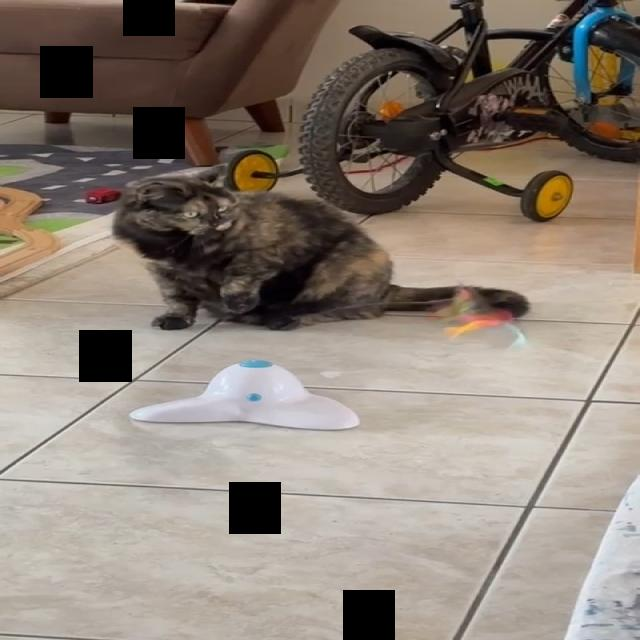authorized: (109, 162, 531, 332)
